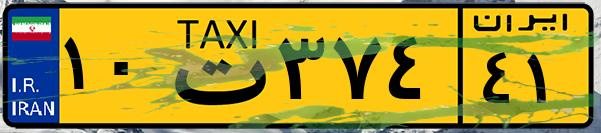0: (110, 28, 158, 98)
1: (57, 26, 110, 100), (525, 38, 570, 115)
3: (270, 28, 330, 110)
4: (385, 28, 445, 110), (475, 38, 525, 113)
7: (330, 28, 385, 110)
ت: (158, 12, 270, 120)
